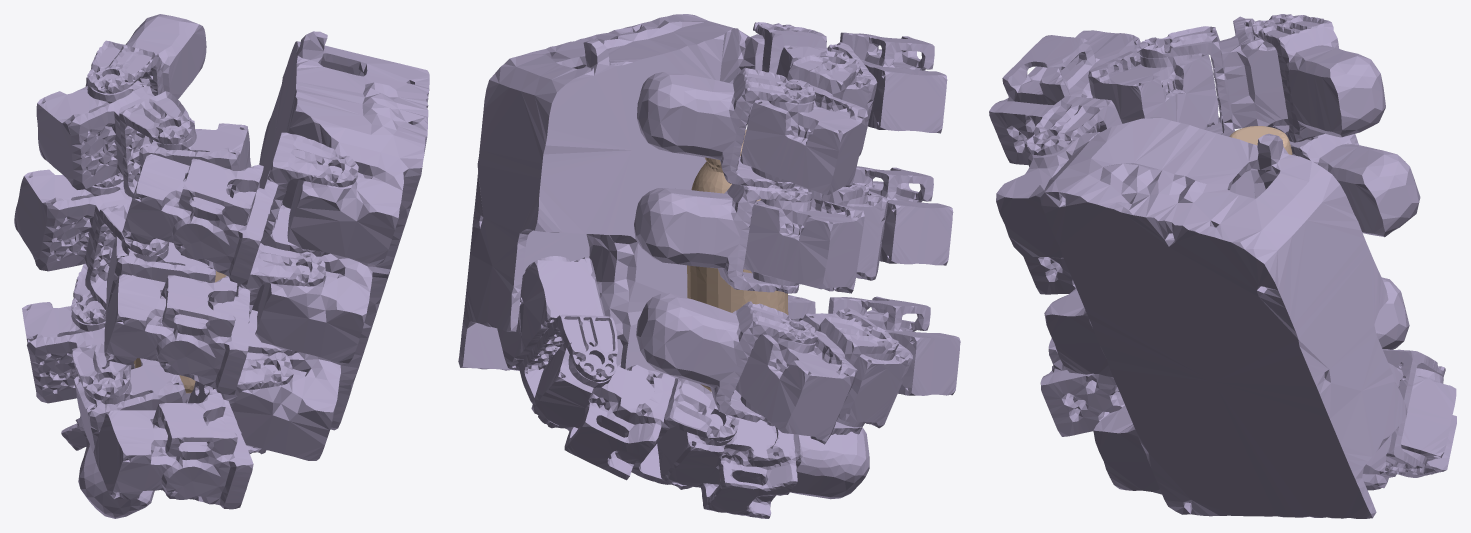
The model's file is case-02-final.glb.
3 views of the same model, side by side, from view 1: azimuth 30°, elevation 25°; view 2: azimuth 150°, elevation 25°; view 3: azimuth 270°, elevation 25° (orthographic). The views are drawn at different scales.
Visible parts, largest first — view 1: world; view 2: world, simplified.obj; view 3: world, simplified.obj.
Part boxes in pixels (bbox=[...]): world: bbox=[14, 14, 429, 518]; world: bbox=[458, 14, 960, 518]; simplified.obj: bbox=[687, 129, 788, 391]; world: bbox=[989, 14, 1456, 518]; simplified.obj: bbox=[1229, 126, 1292, 154].
Bounding box in the file's own units: 0.1527 × 0.1614 × 0.1465.
